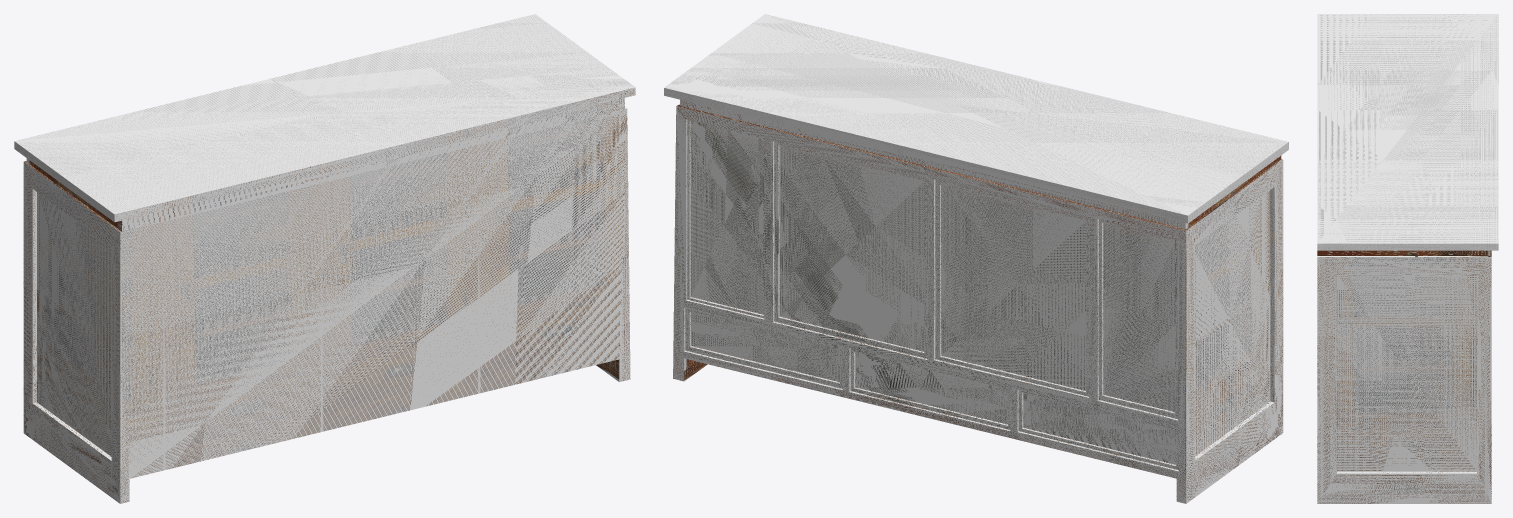
3 views of the same model, side by side, from view 1: azimuth 30°, elevation 25°; view 2: azimuth 150°, elevation 25°; view 3: azimuth 270°, elevation 25° (orthographic). The views are drawn at different scales.
Visible parts, largest first — view 1: mesh1_mesh1-geometry; view 2: mesh1_mesh1-geometry; view 3: mesh1_mesh1-geometry.
Part boxes in pixels (bbox=[...]): mesh1_mesh1-geometry: bbox=[14, 14, 635, 503]; mesh1_mesh1-geometry: bbox=[664, 14, 1288, 503]; mesh1_mesh1-geometry: bbox=[1317, 14, 1498, 503].
Bounding box in the file's own units: 0.8465 × 0.4515 × 0.2822.
